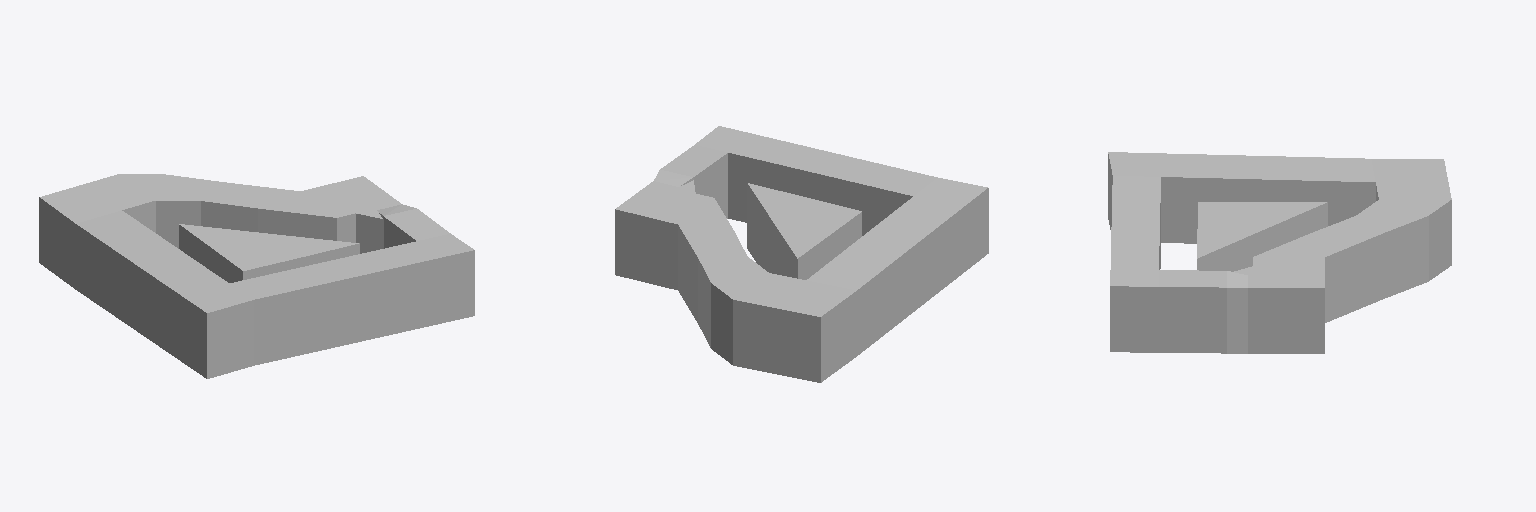
Rendered from savannah_track_bounds.obj.
3 views of the same model, side by side, from view 1: azimuth 30°, elevation 25°; view 2: azimuth 150°, elevation 25°; view 3: azimuth 270°, elevation 25° (orthographic).
Size of the model in its own units: 8.54 by 2.32 by 9.44.